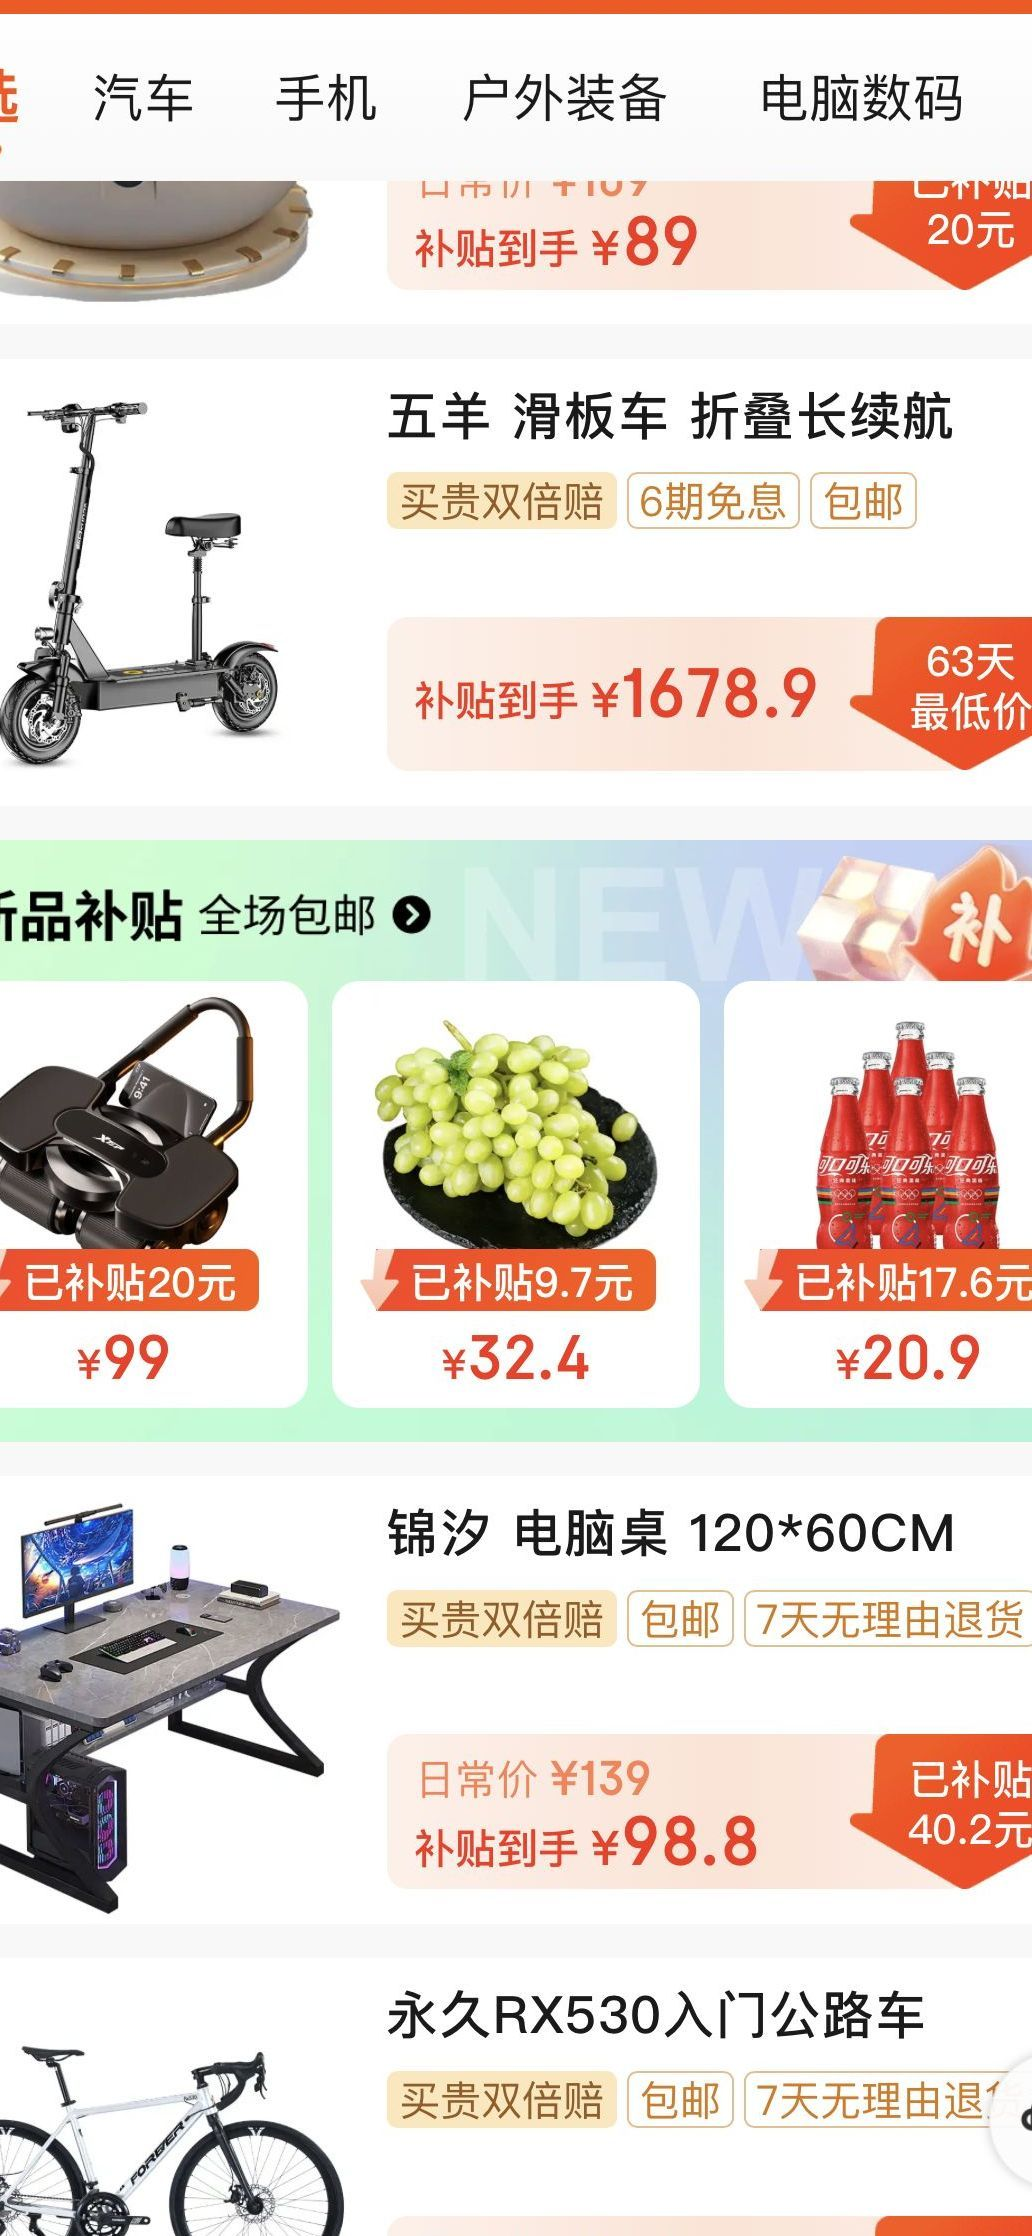banner: (3, 844, 1032, 1452)
item: (10, 1475, 1026, 1928), (1, 358, 1032, 786)
